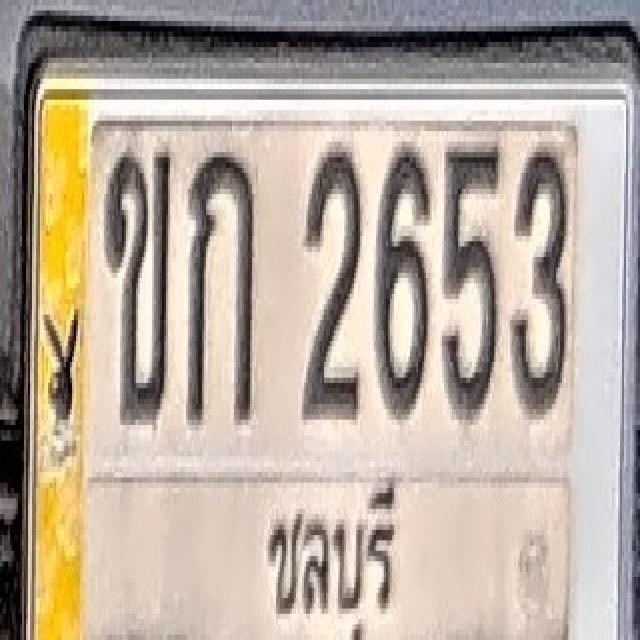-: (187, 144, 255, 422), (105, 144, 171, 422)
2: (303, 144, 361, 417)
3: (511, 142, 569, 414)
5: (443, 139, 501, 417)
6: (375, 144, 429, 417)
CBI: (252, 461, 398, 640)
